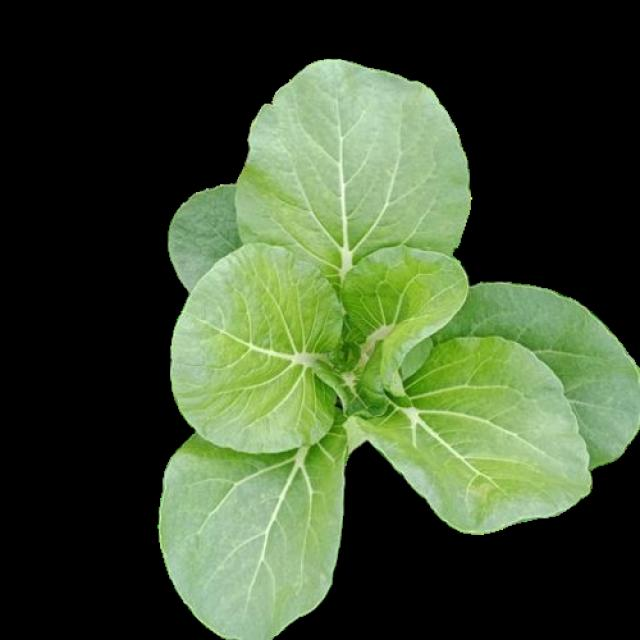healthy: (158, 59, 640, 640)
mature: (158, 60, 638, 640)
